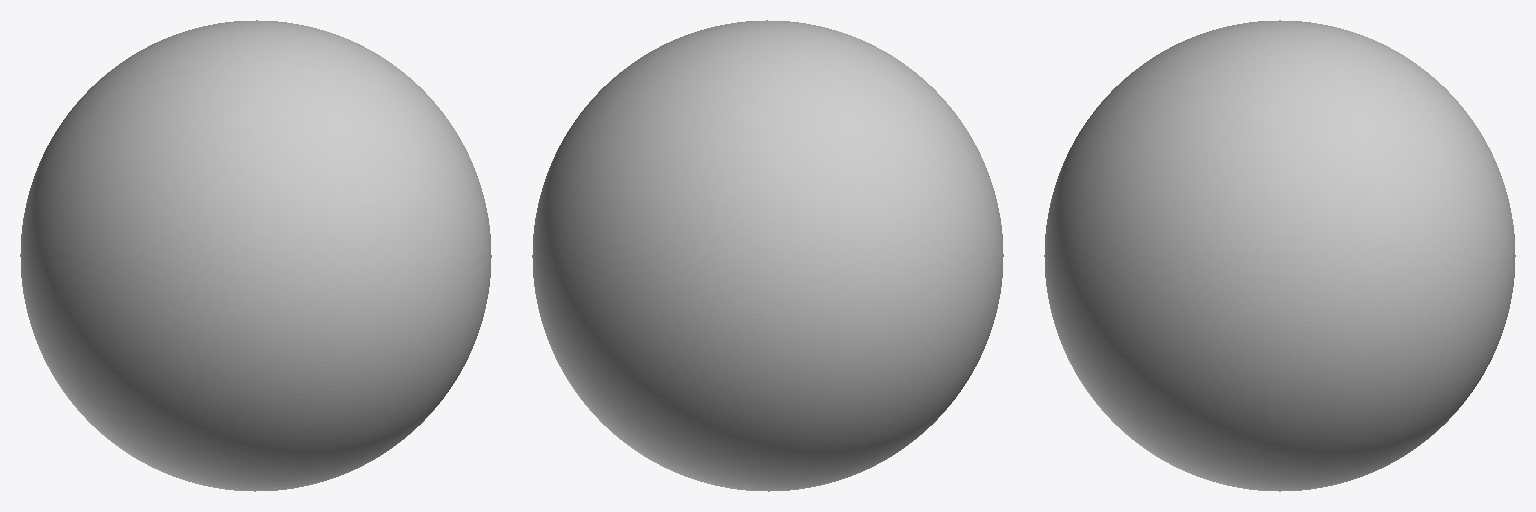
The model's file is sunobj.obj.
The picture shows the model from 3 angles: view 1: azimuth 30°, elevation 25°; view 2: azimuth 150°, elevation 25°; view 3: azimuth 270°, elevation 25°; orthographic projection.
Parts seen in each view (by area): view 1: Quad_Sphere; view 2: Quad_Sphere; view 3: Quad_Sphere.
Boxes of the visible parts, x1=… form: Quad_Sphere: x1=20, y1=20, x2=491, y2=491; Quad_Sphere: x1=532, y1=20, x2=1003, y2=491; Quad_Sphere: x1=1044, y1=20, x2=1515, y2=491.
Bounding box in the file's own units: 2.57 × 2.57 × 2.57.